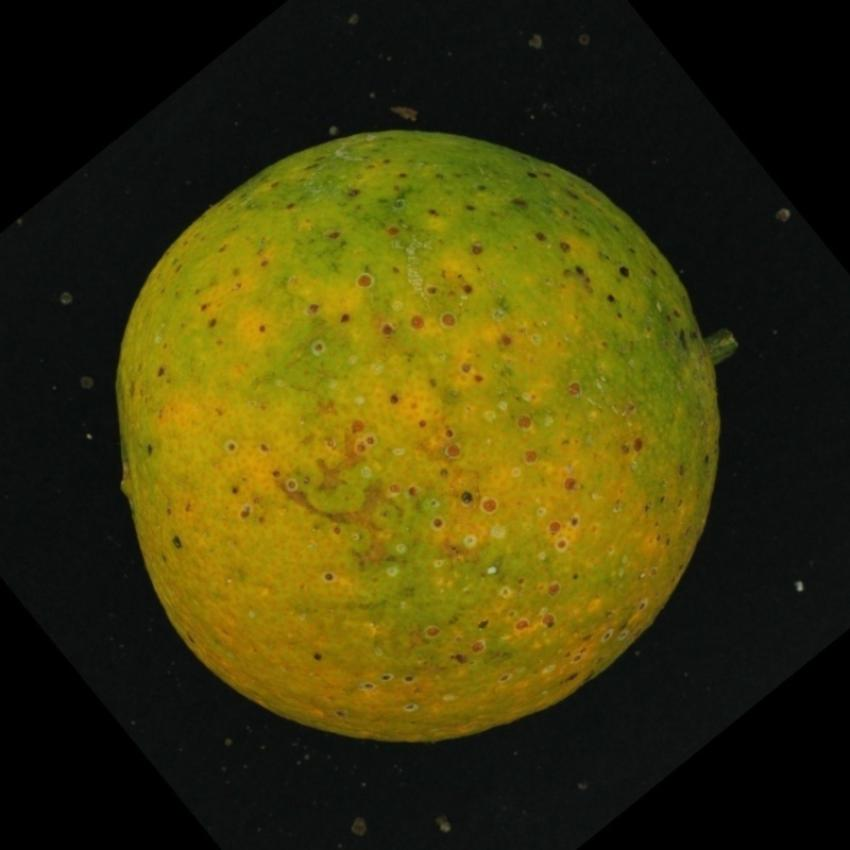Mal estado: (90, 106, 748, 754)
